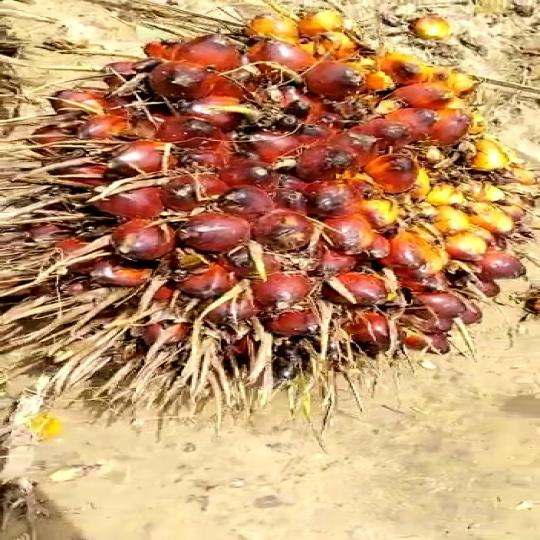masak: (0, 16, 540, 397)
